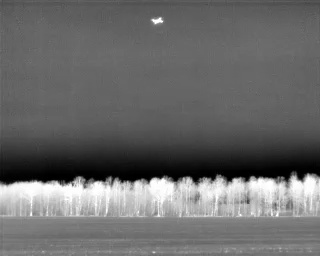DRONE: (148, 13, 168, 30)
